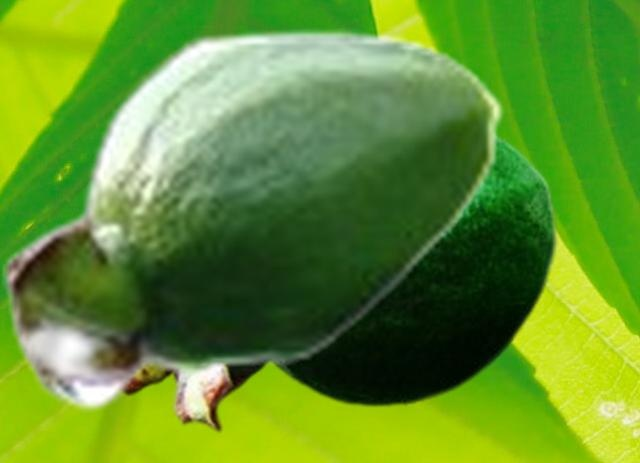guava: (2, 26, 504, 412), (123, 131, 557, 432)
